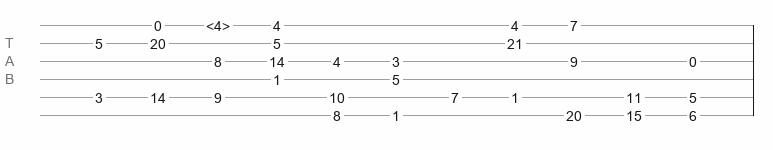0: (154, 18, 162, 28), (689, 54, 697, 64)
1: (273, 72, 281, 82), (392, 108, 400, 118), (511, 90, 519, 100)
10: (329, 90, 345, 100)
11: (626, 90, 642, 100)
14: (150, 90, 166, 100), (269, 54, 285, 64)
15: (626, 108, 642, 118)
20: (150, 36, 166, 46), (566, 108, 582, 118)
21: (507, 36, 523, 46)
3: (95, 90, 103, 100), (392, 54, 400, 64)
4: (273, 18, 281, 28), (333, 54, 341, 64), (511, 18, 519, 28)
5: (95, 36, 103, 46), (273, 36, 281, 46), (392, 72, 400, 82), (689, 90, 697, 100)
6: (689, 108, 697, 118)
7: (451, 90, 459, 100), (570, 18, 578, 28)
8: (214, 54, 222, 64), (333, 108, 341, 118)
9: (214, 90, 222, 100), (570, 54, 578, 64)
harmonic: (206, 18, 230, 28)
